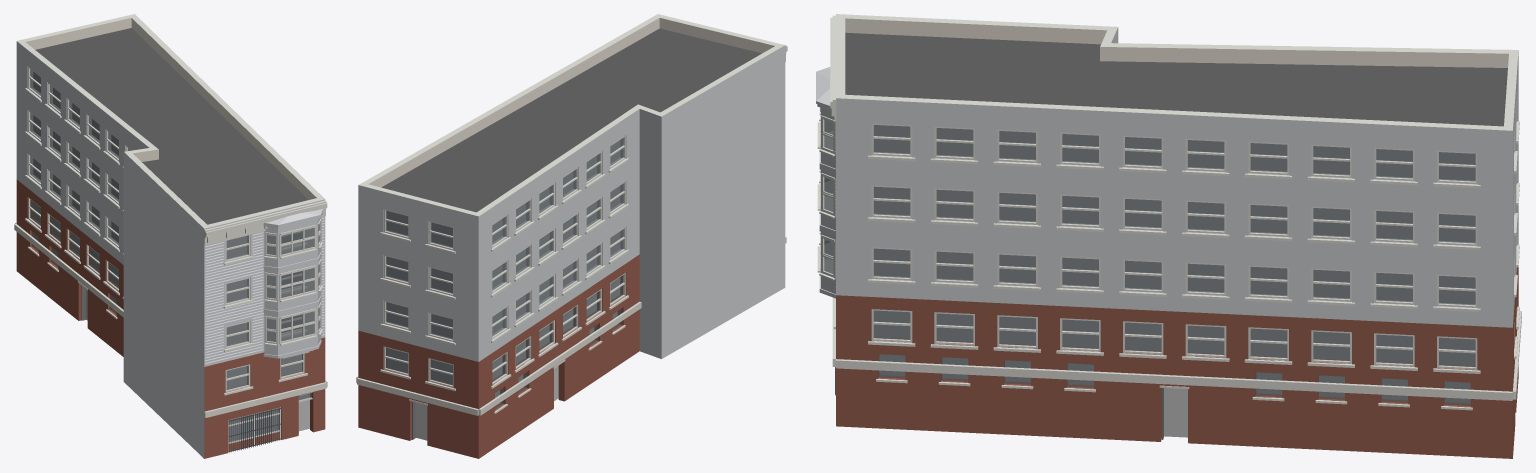
File: exterior.glb
3 views of the same model, side by side, from view 1: azimuth 30°, elevation 25°; view 2: azimuth 150°, elevation 25°; view 3: azimuth 270°, elevation 25° (orthographic). The views are drawn at different scales.
Parts seen in each view (by area): view 1: shell, roof, glazing, shadow-proxy, trim, bay-glazing-hyb, frames, bay-windows-hyb, hyD-lap-1, storefront, facade-r10; view 2: shell, roof, glazing, shadow-proxy, frames, trim; view 3: shell, glazing, shadow-proxy, roof, frames, trim, bay-windows-hyb, bay-glazing-hyb.
Part boxes in pixels (left/top/right/bottom): shell: left=16, top=14, right=325, bottom=458; roof: left=35, top=28, right=308, bottom=224; glazing: left=30, top=69, right=312, bottom=442; shadow-proxy: left=33, top=72, right=313, bottom=441; trim: left=14, top=88, right=327, bottom=417; bay-glazing-hyb: left=264, top=218, right=323, bottom=346; frames: left=28, top=67, right=304, bottom=392; bay-windows-hyb: left=263, top=209, right=323, bottom=358; hyD-lap-1: left=205, top=217, right=324, bottom=363; storefront: left=78, top=281, right=312, bottom=452; facade-r10: left=226, top=235, right=303, bottom=390; shell: left=358, top=14, right=785, bottom=458; roof: left=381, top=28, right=761, bottom=212; glazing: left=386, top=138, right=623, bottom=409; shadow-proxy: left=387, top=140, right=619, bottom=440; frames: left=383, top=136, right=625, bottom=387; trim: left=356, top=45, right=787, bottom=415; shell: left=836, top=14, right=1518, bottom=458; glazing: left=874, top=125, right=1475, bottom=405; shadow-proxy: left=874, top=125, right=1475, bottom=437; roof: left=845, top=32, right=1507, bottom=126; frames: left=871, top=123, right=1514, bottom=369; trim: left=830, top=15, right=1521, bottom=410; bay-windows-hyb: left=816, top=67, right=835, bottom=298; bay-glazing-hyb: left=817, top=107, right=835, bottom=280.
Size of the model in its own units: 10.24 by 13.26 by 25.84.
